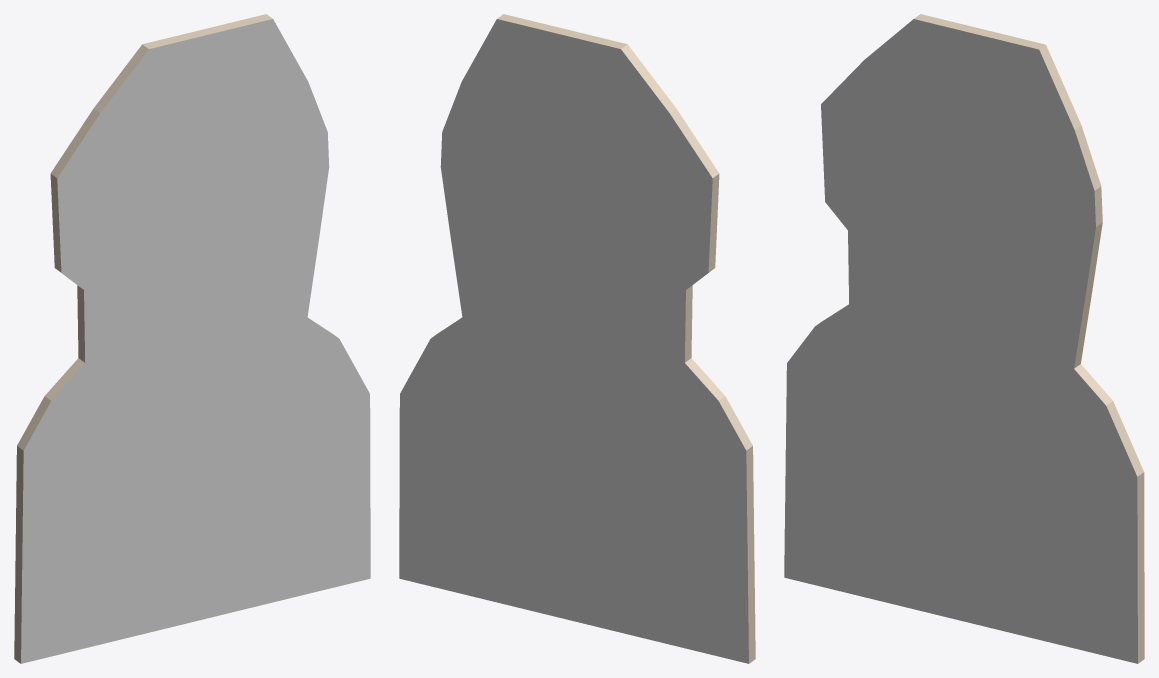
Rendered from monster3.fbx.
3 views of the same model, side by side, from view 1: azimuth 30°, elevation 25°; view 2: azimuth 150°, elevation 25°; view 3: azimuth 330°, elevation 25° (orthographic).
Visible parts, largest first — view 1: Monster3; view 2: Monster3; view 3: Monster3.
Boxes of the visible parts, <box> form: Monster3: <box>14,14,370,663</box>; Monster3: <box>399,14,755,663</box>; Monster3: <box>784,14,1144,663</box>.
Size of the model in its own units: 64.23 by 102 by 2.14.
